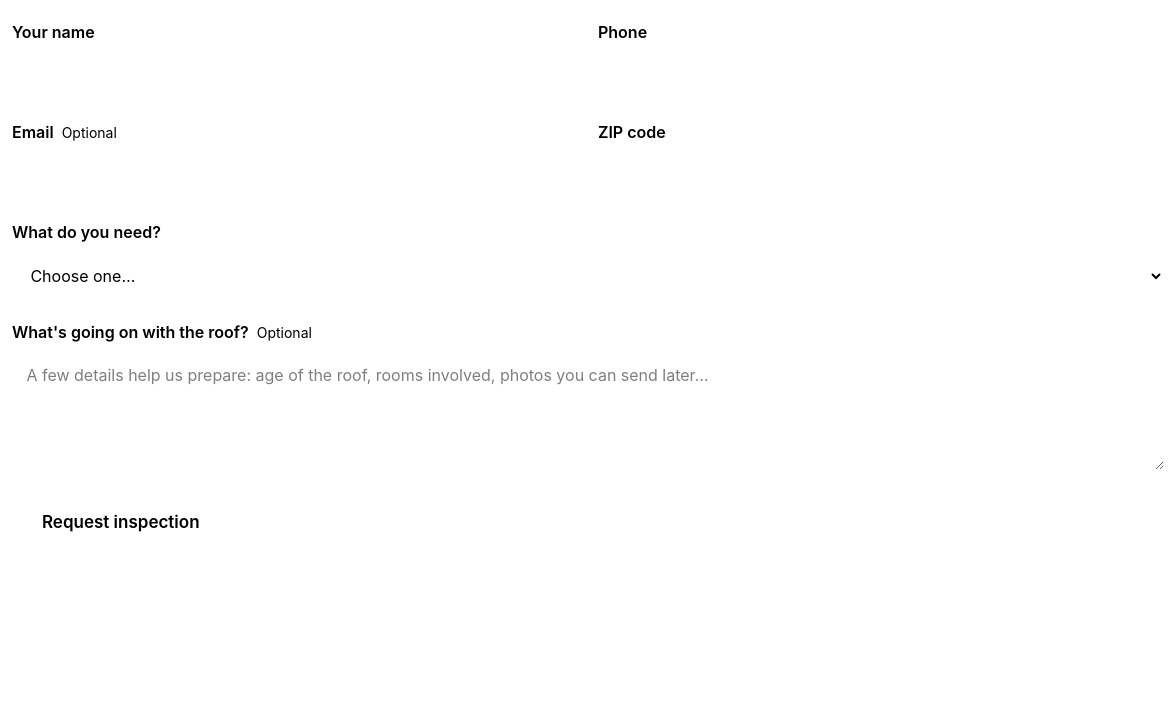
Test: LeadForm › shows an error summary and inline errors without calling the server
Click the button "Request inspection": (121,522) [12, 494, 230, 550]
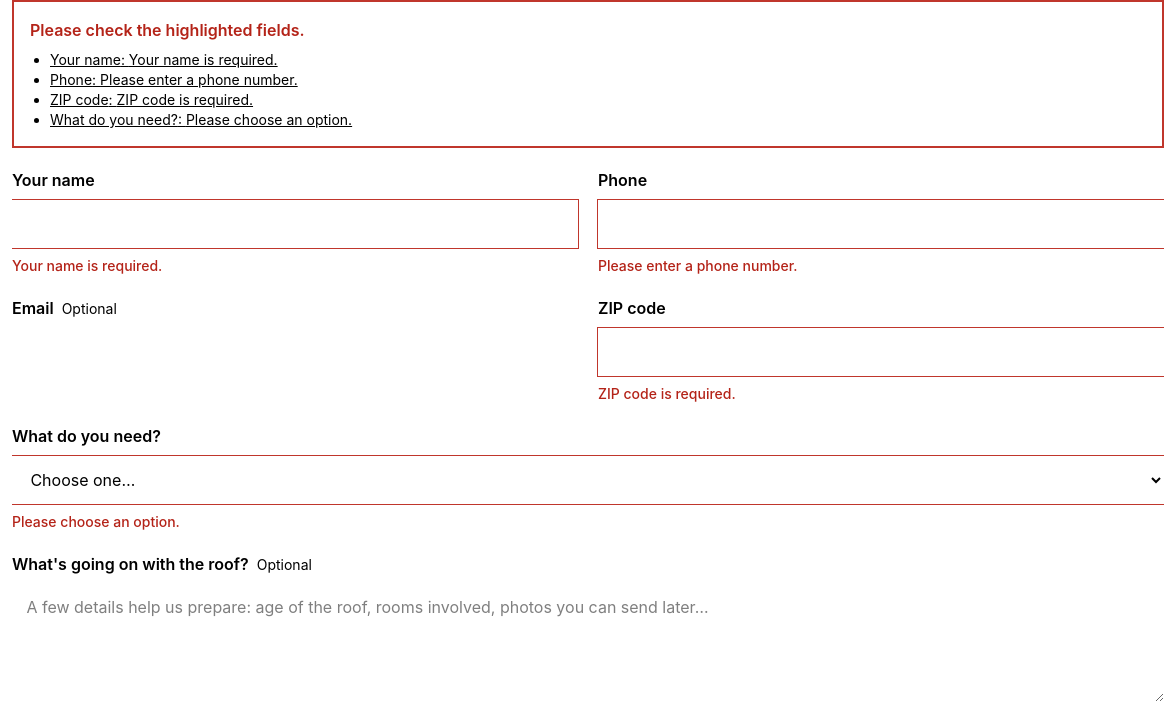
Result: the message shows "Please check the highlighted fields." at [30, 20, 305, 40]
